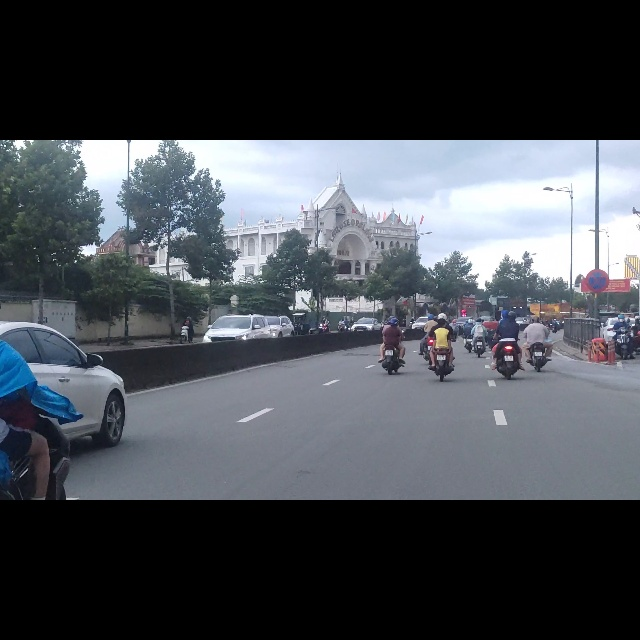bien_cam: (585, 230, 609, 270)
